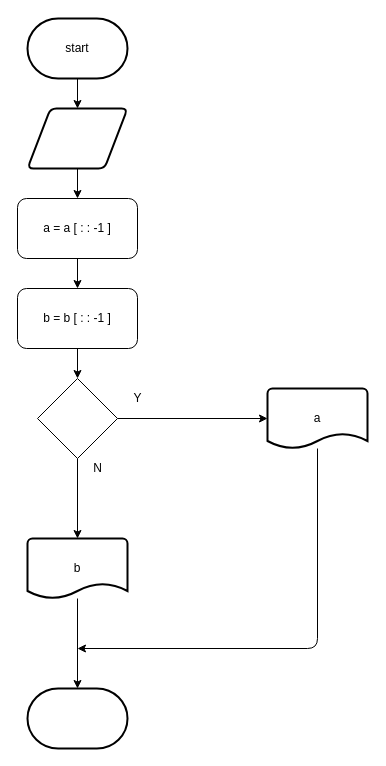
This 386x766 diagram has some shape labels left out. Each missing label, with the centre of its shape:
"a > b" goes at (77,418).
"a, b" goes at (77,138).
"finish" goes at (77,718).
